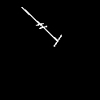treble_crochet: (22, 7, 61, 45)
